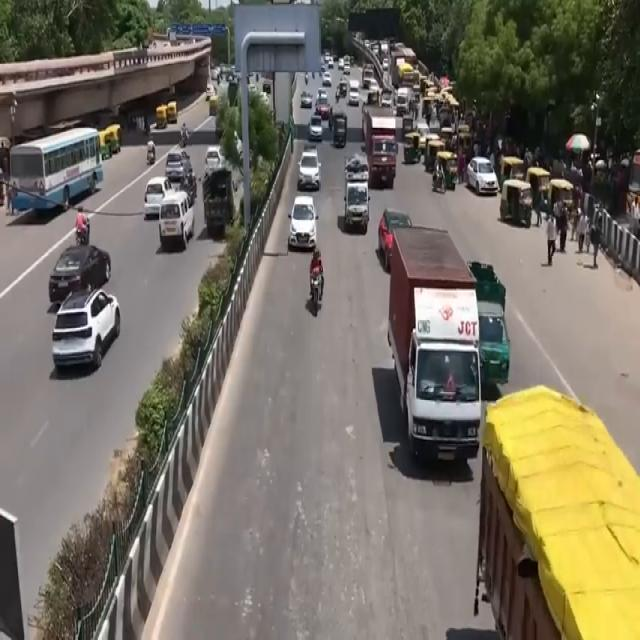BUS: (10, 126, 107, 217)
MOTORCYCLE: (311, 264, 325, 317)
TRUCK: (482, 388, 639, 640), (386, 236, 481, 480), (363, 108, 396, 188), (345, 157, 370, 235)
